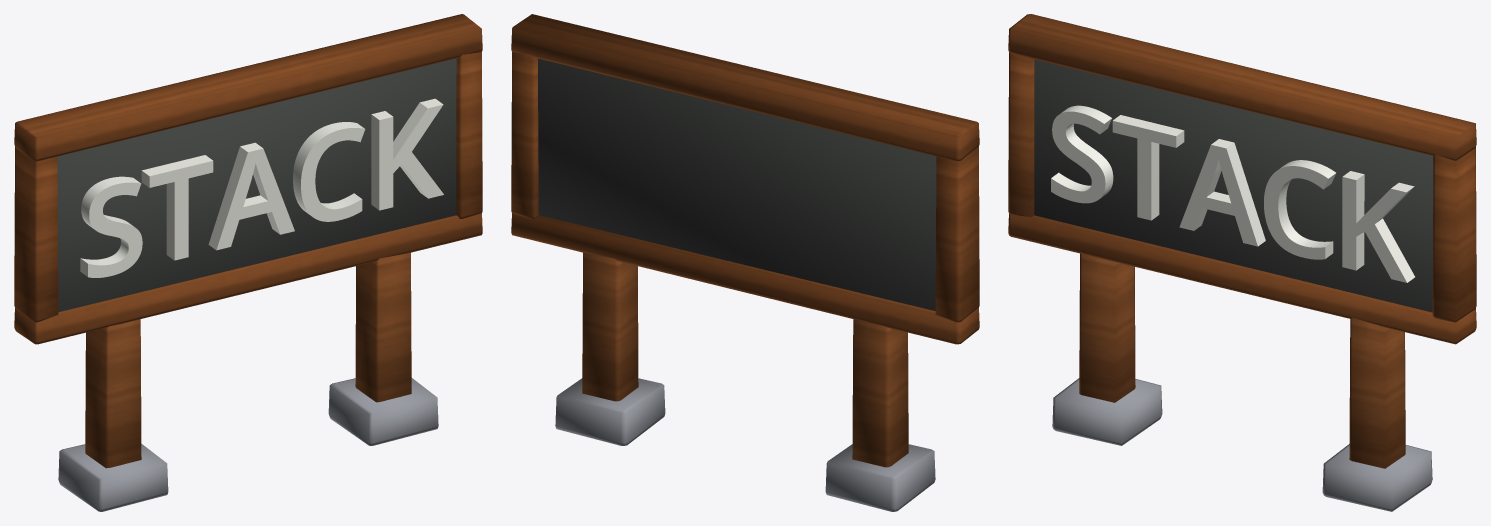
Rendered from 52_sign_stack.glb.
3 renders of one model, left to right at view 1: azimuth 30°, elevation 25°; view 2: azimuth 150°, elevation 25°; view 3: azimuth 330°, elevation 25°, orthographic.
Parts seen in each view (by area): view 1: SlateBoard, FrameTop, SignText, FrameBottom, WoodPost_1, WoodPost_-1, FrameSide_-1, StoneBase_-1, StoneBase_1, FrameSide_1; view 2: SlateBoard, FrameTop, FrameBottom, WoodPost_1, WoodPost_-1, FrameSide_-1, StoneBase_-1, StoneBase_1, FrameSide_1; view 3: SlateBoard, FrameTop, SignText, FrameBottom, WoodPost_1, WoodPost_-1, FrameSide_1, StoneBase_-1, StoneBase_1, FrameSide_-1.
Part boxes in pixels (x1=…): SlateBoard: x1=57, y1=58, x2=456, y2=312; FrameTop: x1=14, y1=14, x2=482, y2=161; SignText: x1=80, y1=98, x2=443, y2=277; FrameBottom: x1=14, y1=213, x2=482, y2=344; WoodPost_1: x1=355, y1=252, x2=411, y2=402; WoodPost_-1: x1=85, y1=319, x2=141, y2=468; FrameSide_-1: x1=14, y1=147, x2=58, y2=322; StoneBase_-1: x1=58, y1=443, x2=168, y2=511; StoneBase_1: x1=328, y1=378, x2=438, y2=445; FrameSide_1: x1=456, y1=52, x2=482, y2=218; SlateBoard: x1=538, y1=58, x2=936, y2=310; FrameTop: x1=511, y1=14, x2=979, y2=161; FrameBottom: x1=511, y1=213, x2=979, y2=344; WoodPost_1: x1=582, y1=252, x2=638, y2=401; WoodPost_-1: x1=852, y1=319, x2=908, y2=467; FrameSide_-1: x1=935, y1=146, x2=979, y2=322; StoneBase_-1: x1=825, y1=444, x2=935, y2=511; StoneBase_1: x1=555, y1=378, x2=665, y2=445; FrameSide_1: x1=511, y1=52, x2=538, y2=218; SlateBoard: x1=1034, y1=59, x2=1433, y2=312; FrameTop: x1=1008, y1=14, x2=1476, y2=161; SignText: x1=1051, y1=105, x2=1414, y2=282; FrameBottom: x1=1008, y1=214, x2=1476, y2=344; WoodPost_1: x1=1349, y1=317, x2=1405, y2=468; WoodPost_-1: x1=1079, y1=253, x2=1135, y2=402; FrameSide_1: x1=1432, y1=147, x2=1476, y2=322; StoneBase_-1: x1=1052, y1=378, x2=1162, y2=445; StoneBase_1: x1=1322, y1=444, x2=1432, y2=511; FrameSide_-1: x1=1008, y1=52, x2=1034, y2=217.
Size of the model in its own units: 1.3 by 1.06 by 0.21.
Materials: 5 (2 with a texture image).
